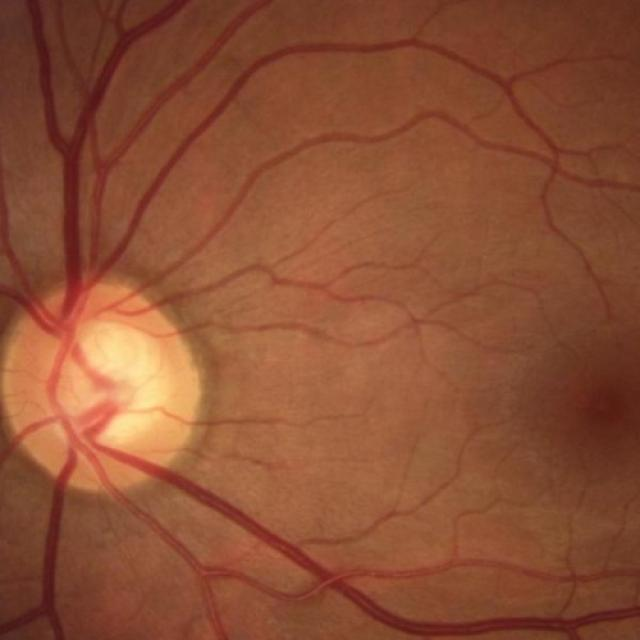OC: (62, 322, 169, 439)
OD: (3, 285, 202, 494)
